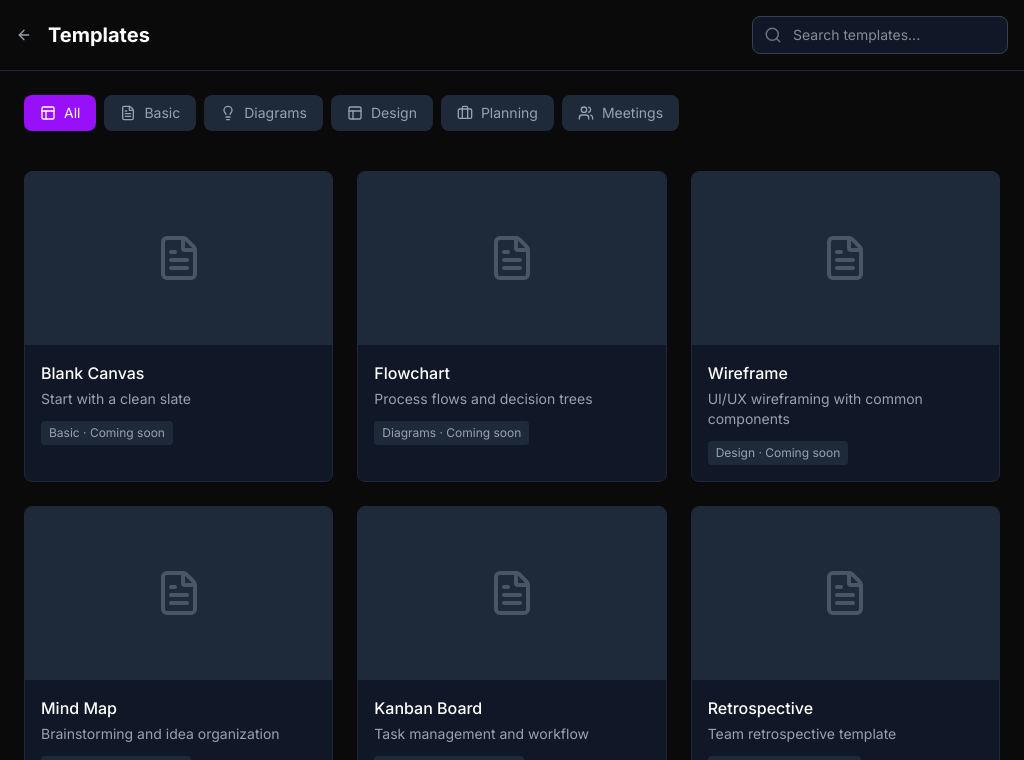
Scenario: /templates — filtering › renders nothing for a query that matches nothing inside the chosen category
The width and height of the screenshot is (1024, 760).
In the field with placeholder "Search templates...": (880, 35) [752,16,1008,54], type "wireframing"
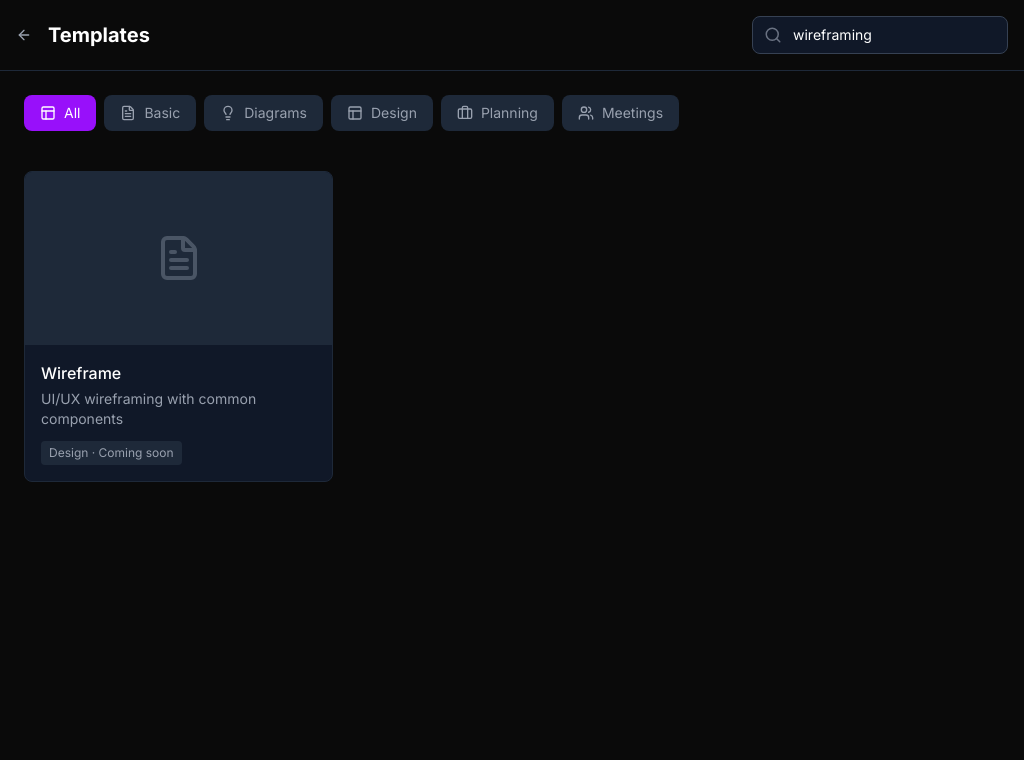
Click the button "Diagrams": (264, 113) [204,95,323,131]
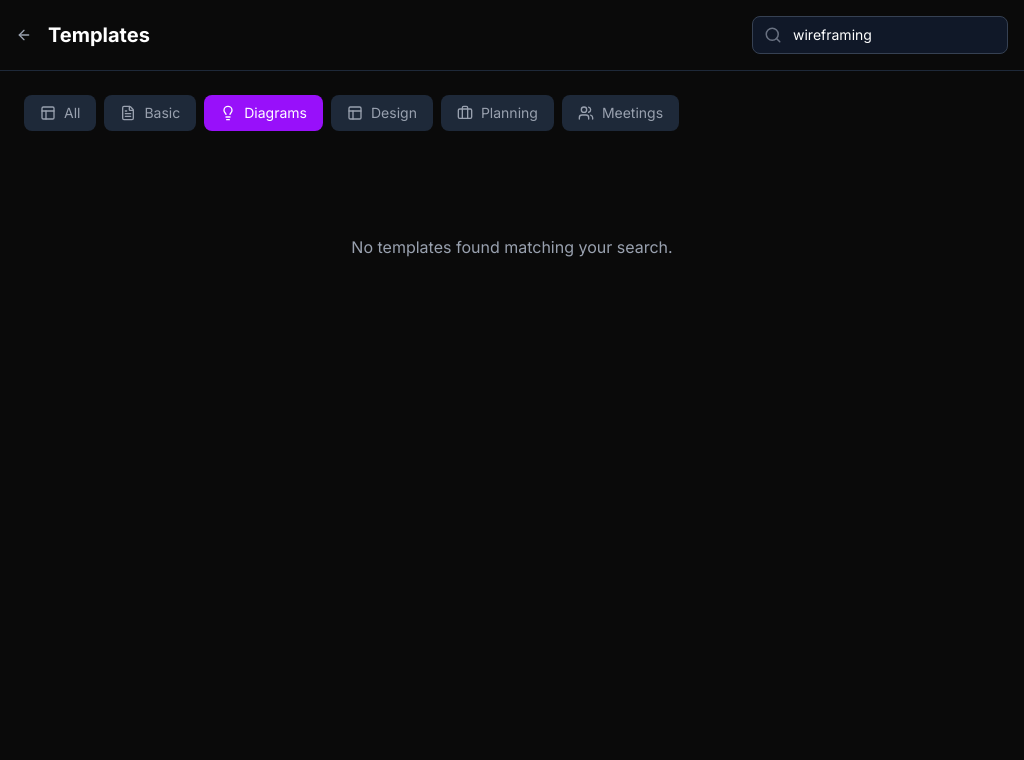
Now the text "No templates found matching your search." is shown, box [351,237,673,257]
